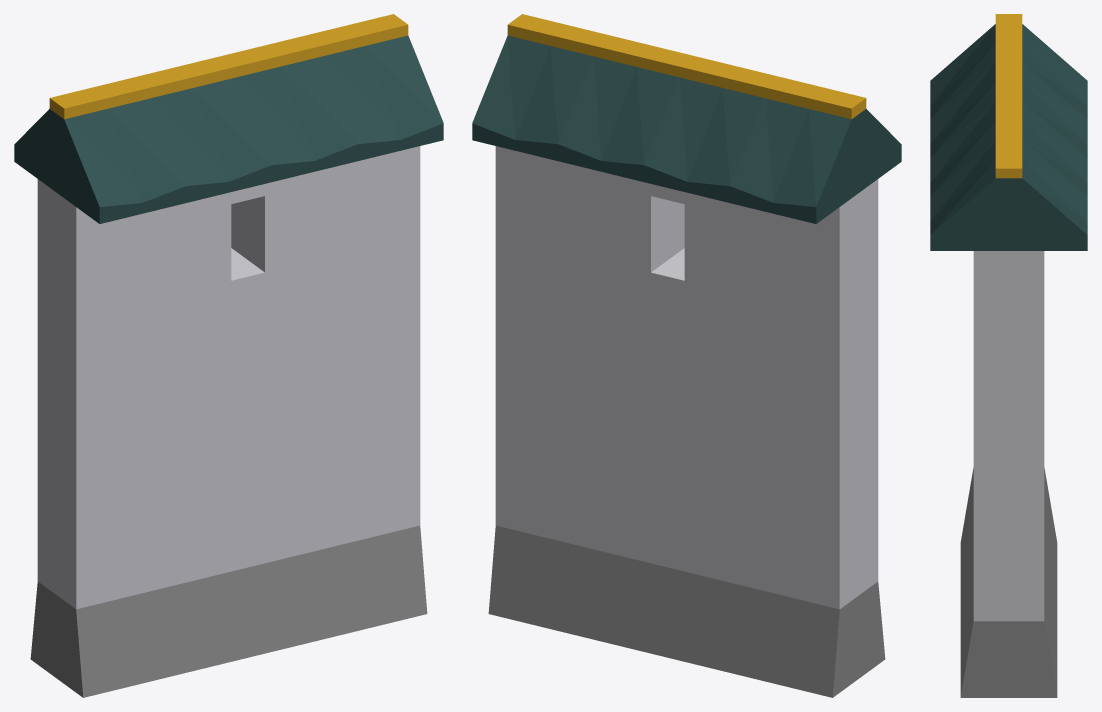
File: Asian_Prop_Building_Fence_Wall_Simple_Small_Embrasure_04.FBX
The picture shows the model from 3 angles, left to right: view 1: azimuth 30°, elevation 25°; view 2: azimuth 150°, elevation 25°; view 3: azimuth 270°, elevation 25°; orthographic projection. The views are drawn at different scales.
Parts seen in each view (by area): view 1: Asian_Prop_Building_Fence_Wall_Simple_Small_Embrasure_04; view 2: Asian_Prop_Building_Fence_Wall_Simple_Small_Embrasure_04; view 3: Asian_Prop_Building_Fence_Wall_Simple_Small_Embrasure_04.
Part boxes in pixels (x1,y1,x2,y2): Asian_Prop_Building_Fence_Wall_Simple_Small_Embrasure_04: (14, 14, 443, 697); Asian_Prop_Building_Fence_Wall_Simple_Small_Embrasure_04: (472, 14, 901, 697); Asian_Prop_Building_Fence_Wall_Simple_Small_Embrasure_04: (930, 14, 1087, 697).
Size of the model in its own units: 2584 by 4128 by 1112.
